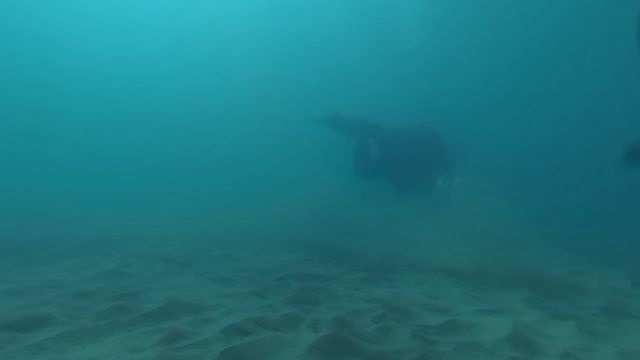Diver: (302, 85, 481, 222)
